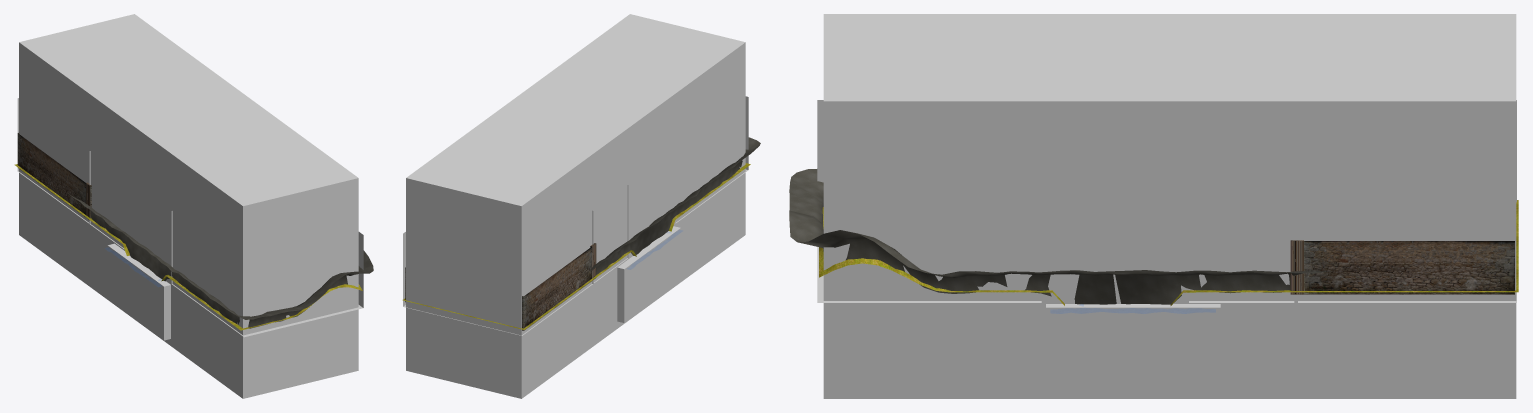
File: example_level.gltf
3 views of the same model, side by side, from view 1: azimuth 30°, elevation 25°; view 2: azimuth 150°, elevation 25°; view 3: azimuth 270°, elevation 25° (orthographic). The views are drawn at different scales.
Parts seen in each view (by area): view 1: CasMoveLimit, CasWater, Grid.001, Cube, CasSector0, Grid; view 2: CasMoveLimit, CasWater, Cube, Grid.001, Grid, CasSector3, CasSector0; view 3: CasMoveLimit, CasWater, Grid.001, Cube, Grid, CasSector0, Plane.
Part boxes in pixels (x1,y1,x2,y2): CasMoveLimit: (19,14,358,398); CasWater: (107,243,170,340); Grid.001: (69,194,373,328); Cube: (17,133,91,220); CasSector0: (171,211,363,337); Grid: (14,164,362,330); CasMoveLimit: (406,14,745,398); CasWater: (617,226,680,322); Cube: (405,243,596,330); Grid.001: (590,137,760,274); Grid: (402,163,750,329); CasSector3: (403,210,593,335); CasSector0: (675,96,748,223); CasMoveLimit: (823,14,1516,398); CasWater: (1046,304,1220,390); Grid.001: (789,169,1332,304); Cube: (1290,240,1514,294); Grid: (819,200,1518,305); CasSector0: (817,100,1041,302); Plane: (1051,304,1215,313).
Bounding box in the file's own units: 45.01 × 60.1 × 133.
5 materials, 5 textured.
